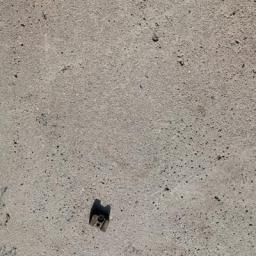FOD: (85, 196, 116, 234)
